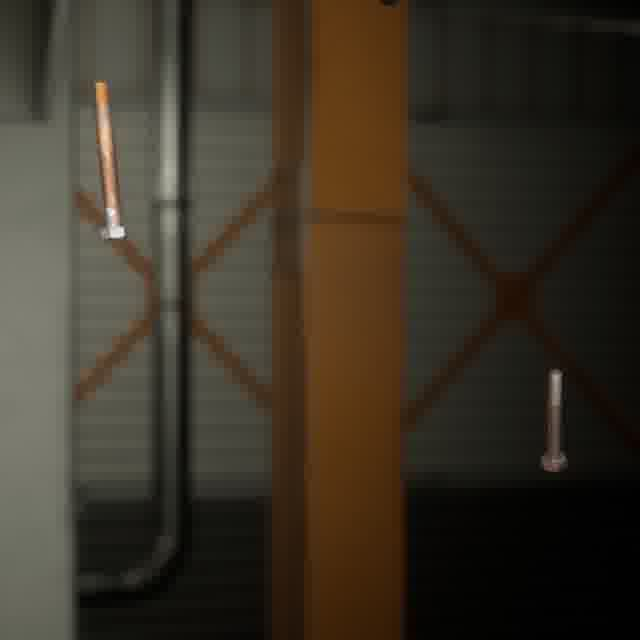bolt: (88, 77, 133, 244), (537, 365, 571, 476)
